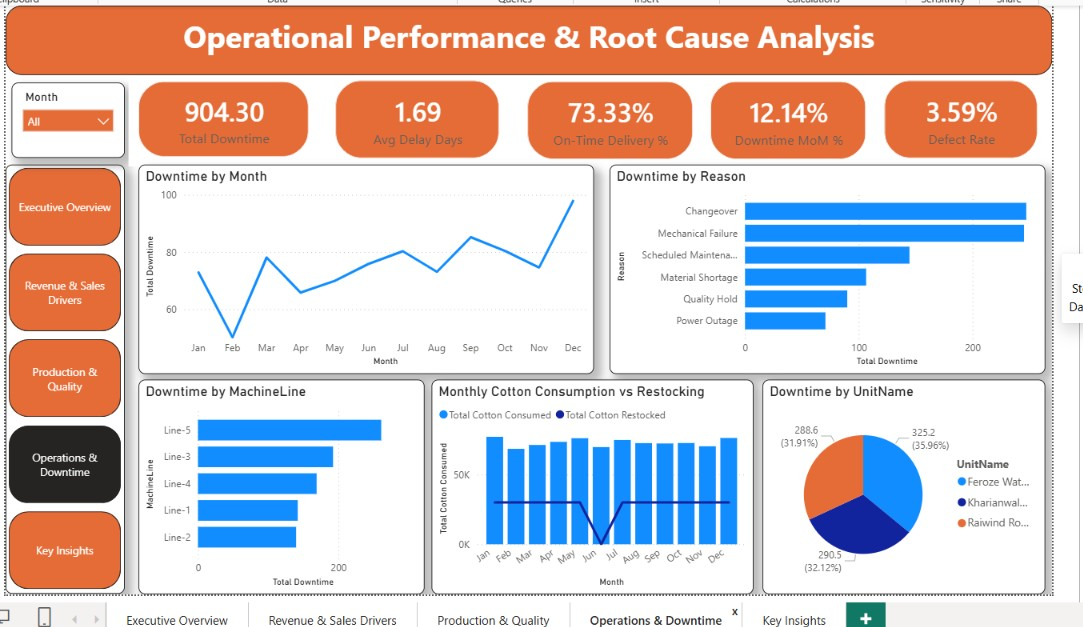

The dashboard page shown, as its layout file describes it:
{"tool":"powerbi","page":{"name":"Operations & Downtime","canvas":[1280,720],"ordinal":3},"visuals":[{"type":"pageNavigator","box":[0,194.8,145.7,524.9],"z":0},{"type":"slicer","fields":{"Values":["Date.Month"]},"box":[7.1,94.3,138.3,92.2],"z":1000},{"type":"cardVisual","fields":{"Data":["measure.defect_rate"]},"box":[1058.1,74,221.6,129],"z":2000},{"type":"cardVisual","fields":{"Data":["measure.Downtime MoM %"]},"box":[845.2,75.4,224.4,129],"z":3000},{"type":"cardVisual","fields":{"Data":["measure.Avg Delay Days"]},"box":[386.7,74,234.2,129],"z":4000},{"type":"cardVisual","fields":{"Data":["measure.Total Downtime"]},"box":[145.5,75.4,242.6,126.2],"z":5000},{"type":"cardVisual","fields":{"Data":["measure.On-Time Delivery %"]},"box":[620.9,75.4,237,129],"z":6000},{"type":"lineChart","title":"Downtime by Month","fields":{"Y":["measure.Total Downtime"],"Category":["Date.Month"]},"box":[162.3,194.8,557.1,255.8],"z":7000},{"type":"clusteredBarChart","title":"Downtime by Reason","fields":{"Y":["measure.Total Downtime"],"Category":["Fact_Downtime.Reason"]},"box":[739,194.8,532.5,255.8],"z":8000},{"type":"clusteredBarChart","title":"Downtime by MachineLine","fields":{"Y":["measure.Total Downtime"],"Category":["Fact_Downtime.MachineLine"]},"box":[162.3,457.1,349.4,262.3],"z":9000},{"type":"lineClusteredColumnComboChart","title":"Monthly Cotton Consumption vs Restocking","fields":{"Category":["Date.Month"],"Y":["measure.Total Cotton Consumed"],"Y2":["measure.Total Cotton Restocked"]},"box":[520.8,457.1,393.5,262.3],"z":10000},{"type":"pieChart","title":"Downtime by UnitName","fields":{"Category":["Dim_Units.UnitName"],"Y":["measure.Total Downtime"]},"box":[926,457.1,345.5,262.3],"z":11000},{"type":"textbox","box":[0,0,1280.3,84.8],"z":12000}]}

Visuals, with their boxes on the page's 1280x720 design canvas (x1, y1, x2, y2). These are canvas units, not pixel positions in the 1083x627 screenshot, which may show the page scaled, cropped or inside an application window:
pageNavigator: (x1=0, y1=195, x2=146, y2=720)
slicer - Date.Month: (x1=7, y1=94, x2=145, y2=186)
cardVisual - measure.defect_rate: (x1=1058, y1=74, x2=1280, y2=203)
cardVisual - measure.Downtime MoM %: (x1=845, y1=75, x2=1070, y2=204)
cardVisual - measure.Avg Delay Days: (x1=387, y1=74, x2=621, y2=203)
cardVisual - measure.Total Downtime: (x1=146, y1=75, x2=388, y2=202)
cardVisual - measure.On-Time Delivery %: (x1=621, y1=75, x2=858, y2=204)
"Downtime by Month" lineChart: (x1=162, y1=195, x2=719, y2=451)
"Downtime by Reason" clusteredBarChart: (x1=739, y1=195, x2=1272, y2=451)
"Downtime by MachineLine" clusteredBarChart: (x1=162, y1=457, x2=512, y2=719)
"Monthly Cotton Consumption vs Restocking" lineClusteredColumnComboChart: (x1=521, y1=457, x2=914, y2=719)
"Downtime by UnitName" pieChart: (x1=926, y1=457, x2=1272, y2=719)
textbox: (x1=0, y1=0, x2=1280, y2=85)
